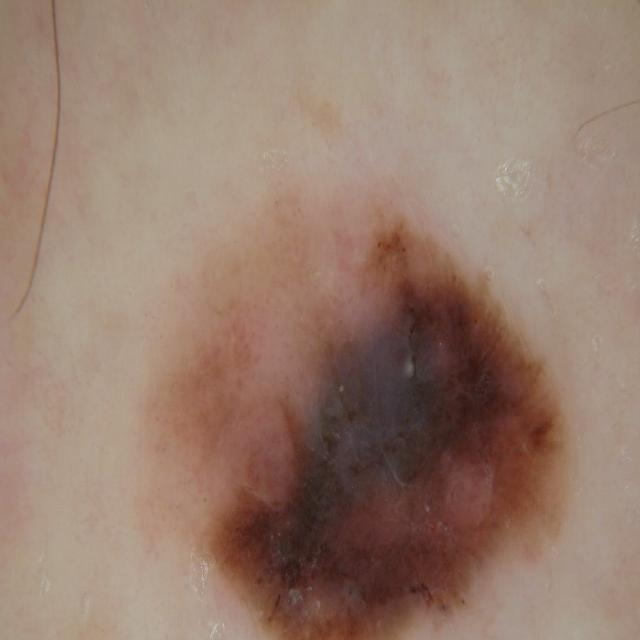Melanoma: (120, 164, 598, 640)
